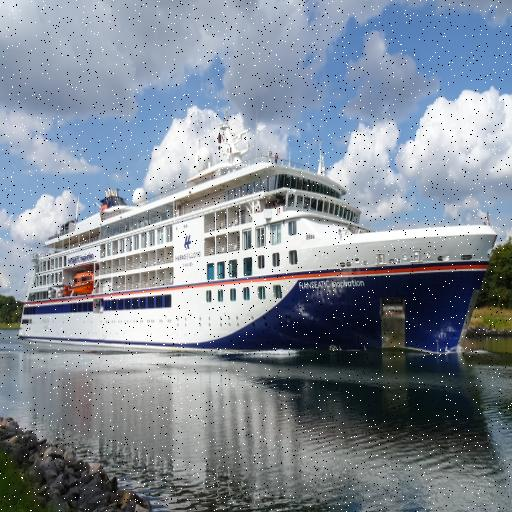cruises: (16, 102, 502, 358)
